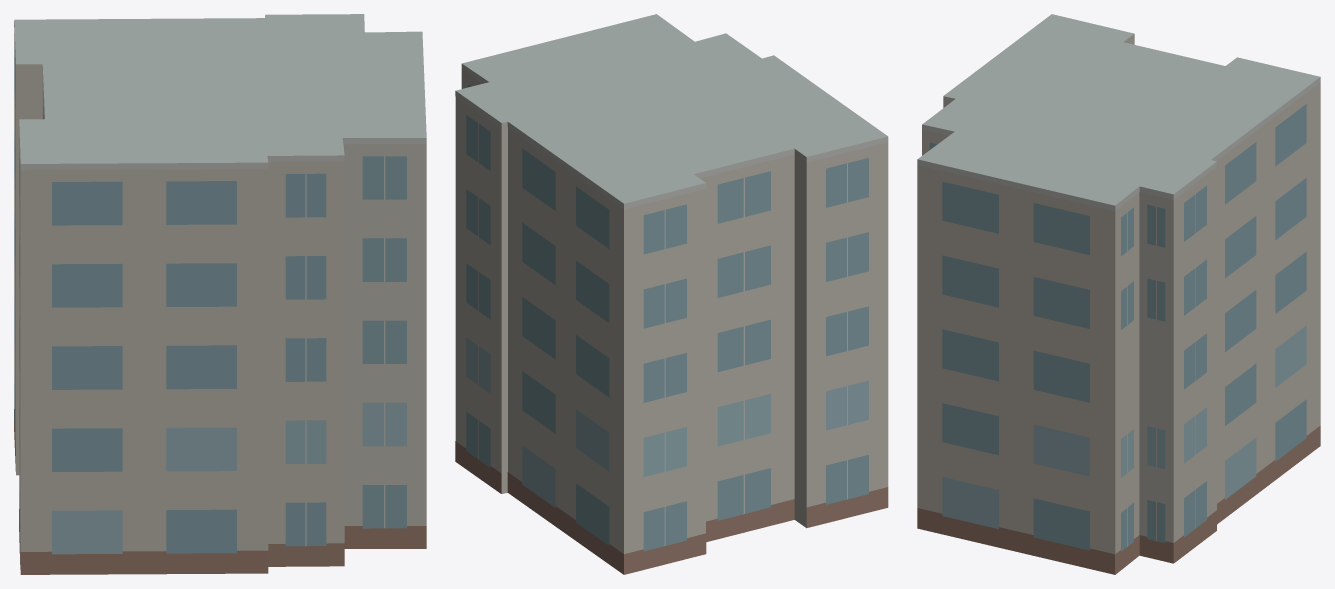
The model's file is survey-upis-32886773.glb.
The picture shows the model from 3 angles, left to right: view 1: azimuth 30°, elevation 25°; view 2: azimuth 150°, elevation 25°; view 3: azimuth 270°, elevation 25°; orthographic projection. The views are drawn at different scales.
Parts seen in each view (by area): view 1: survey-upis-32886773.tmp; view 2: survey-upis-32886773.tmp; view 3: survey-upis-32886773.tmp.
Part boxes in pixels (<box>): survey-upis-32886773.tmp: <box>14,14,426,574</box>; survey-upis-32886773.tmp: <box>455,14,888,574</box>; survey-upis-32886773.tmp: <box>917,14,1320,574</box>.
Size of the model in its own units: 18.05 by 16.2 by 16.04.
